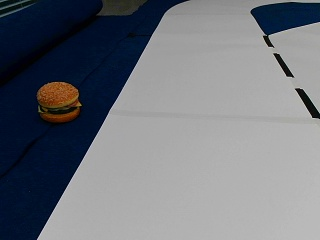burger: (35, 80, 81, 121)
